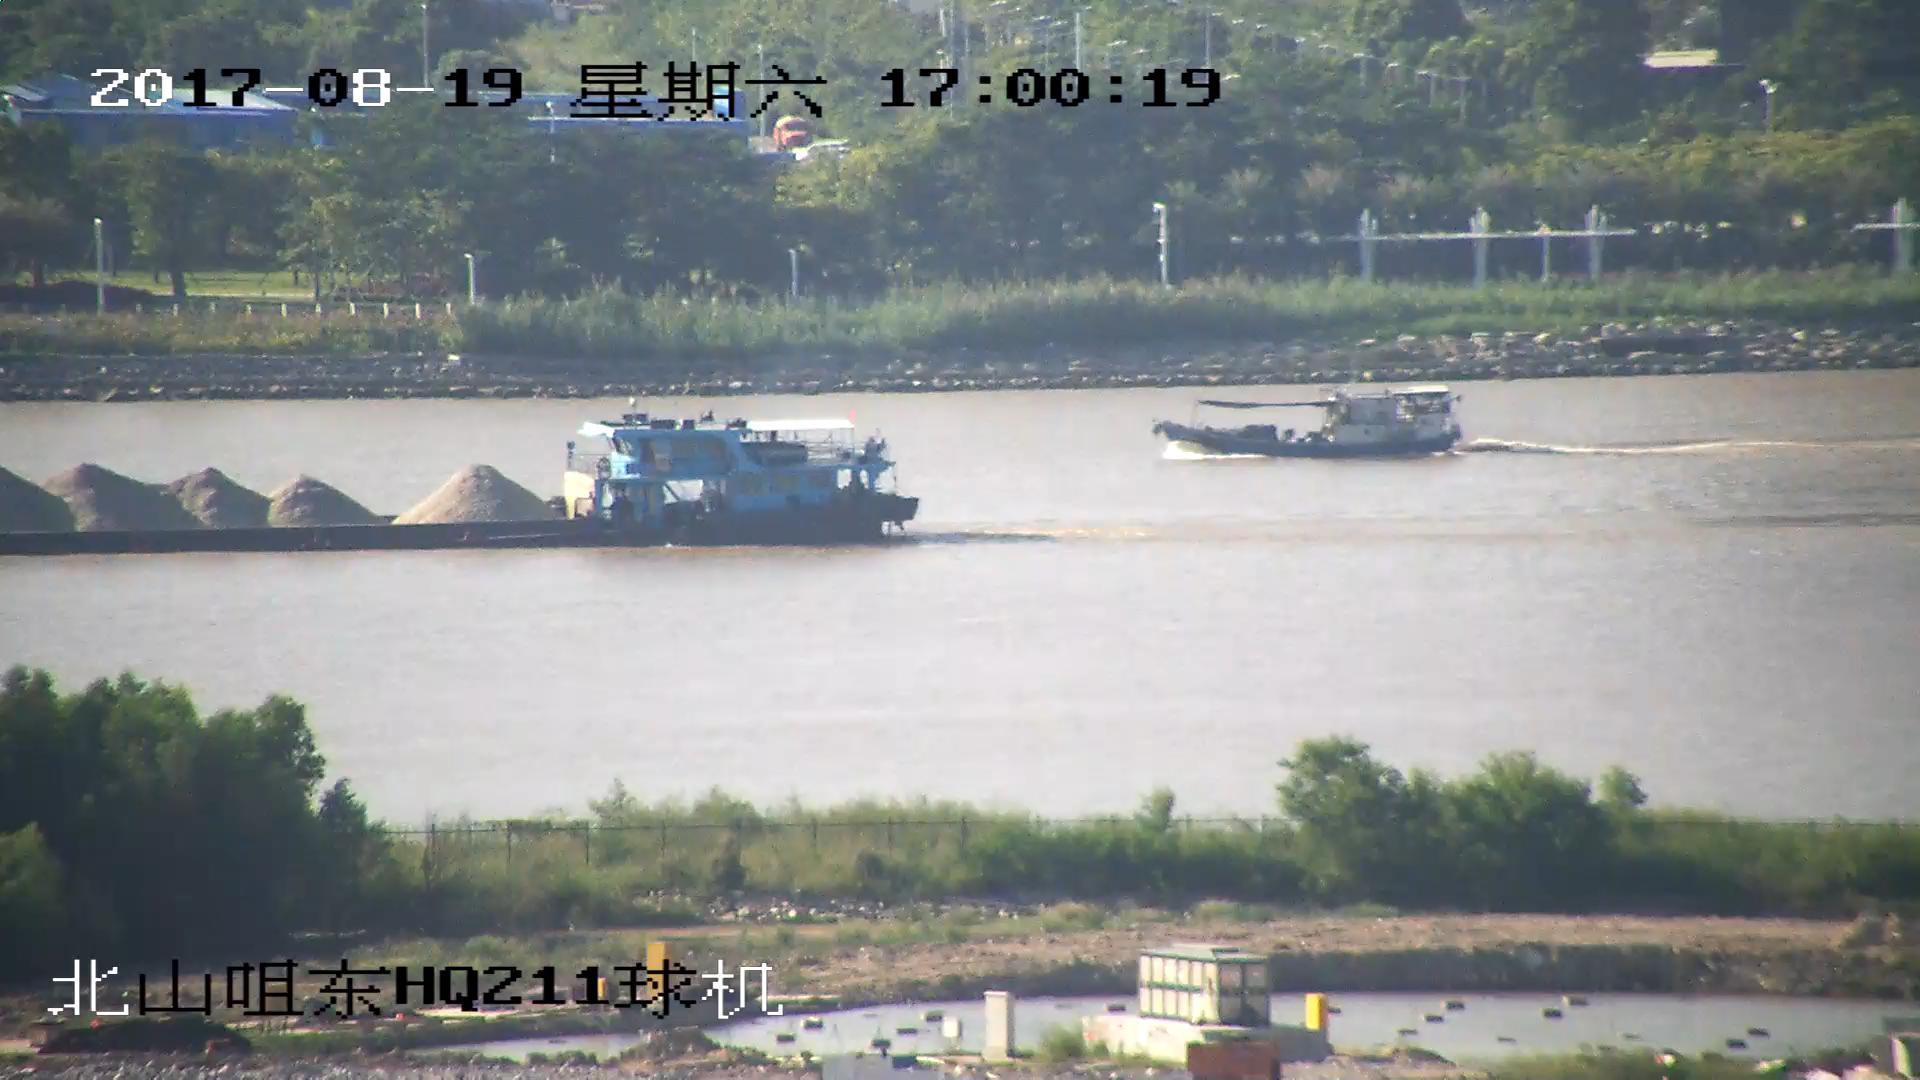Ship: (3, 404, 920, 555), (1156, 386, 1466, 465)
